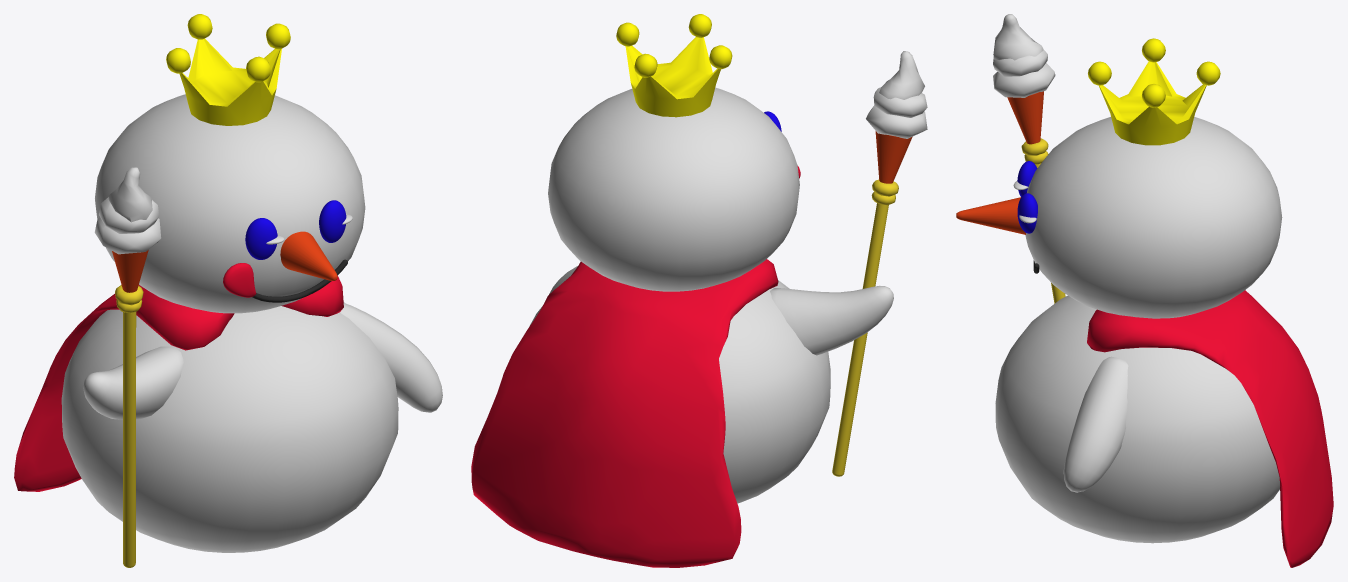
Rendered from mixue-mascot3.glb.
3 renders of one model, left to right at view 1: azimuth 30°, elevation 25°; view 2: azimuth 150°, elevation 25°; view 3: azimuth 270°, elevation 25°, orthographic. The views are drawn at different scales.
Parts seen in each view (by area): view 1: mixue; view 2: mixue; view 3: mixue.
Boxes of the visible parts, x1,y1,x2,y2 form: mixue: [14, 14, 442, 567]; mixue: [471, 14, 927, 567]; mixue: [956, 14, 1333, 567].
Bounding box in the file's own units: 2.14 × 2.71 × 2.02.
